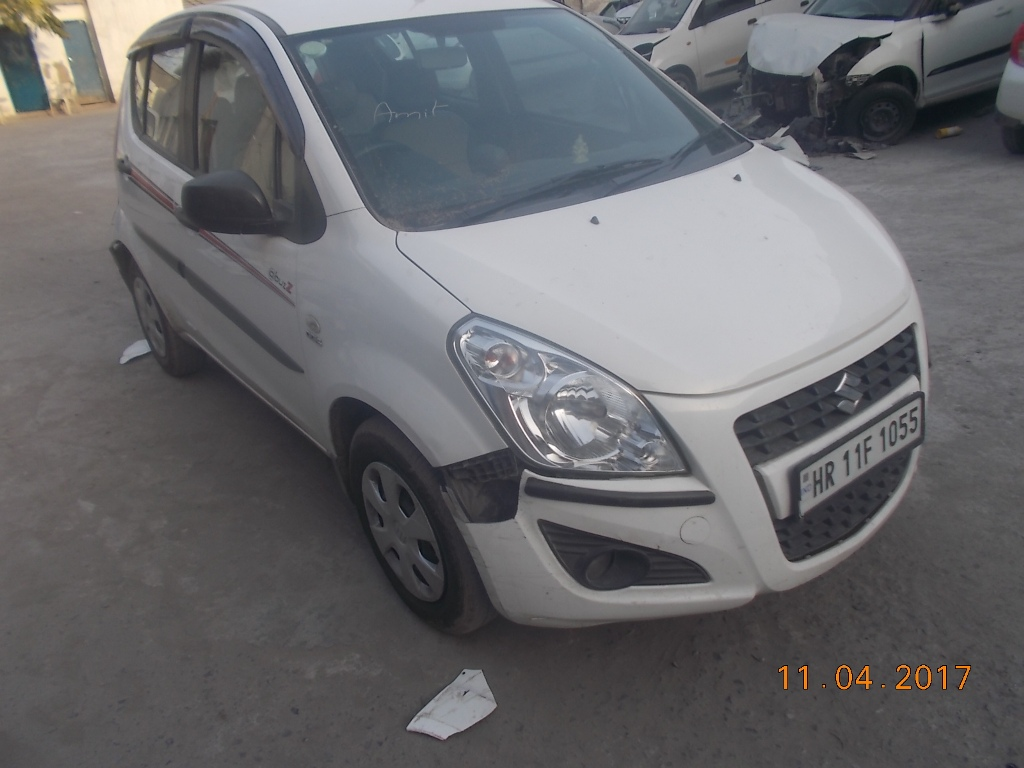Tear: (459, 502, 529, 537), (515, 467, 529, 494)
